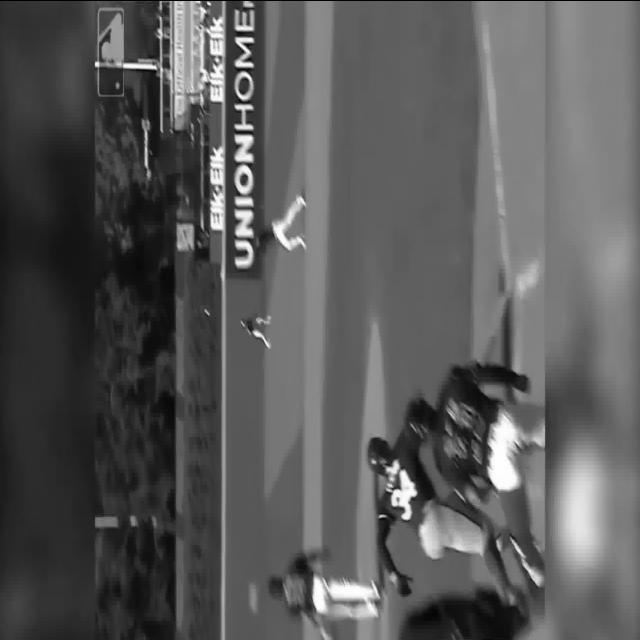baseball: (204, 308, 210, 314)
shoe: (509, 533, 545, 587), (502, 584, 530, 619), (389, 570, 414, 596), (370, 578, 382, 600), (296, 194, 306, 208), (298, 235, 306, 249)
